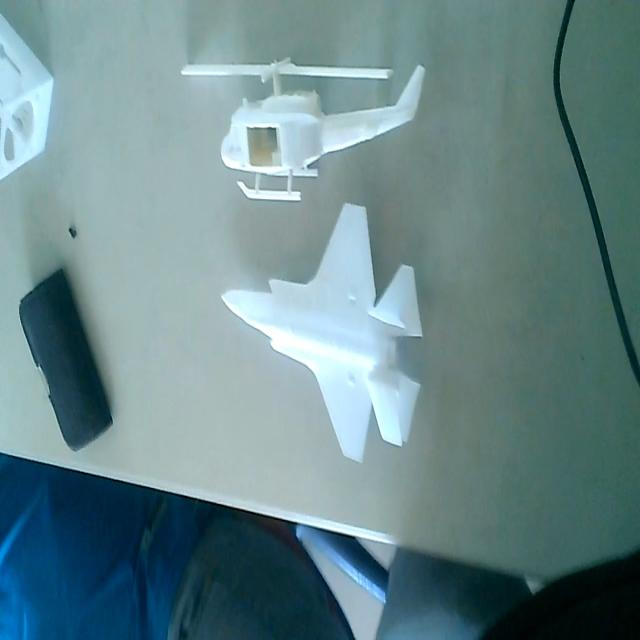Helicopter: (178, 40, 435, 208)
Jet: (217, 201, 428, 478)
